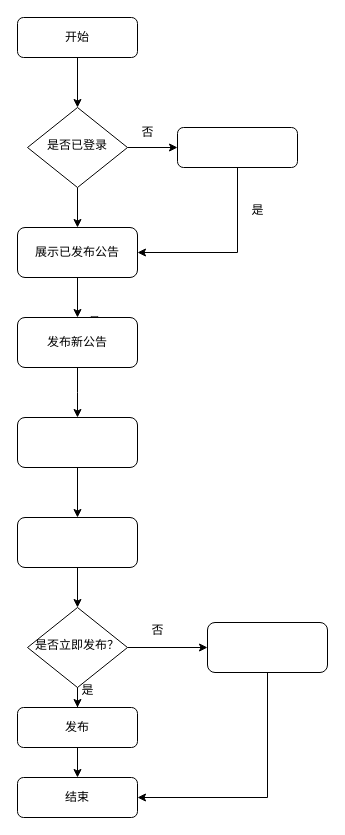
Image size: 345x835. Some labels were removed from this diagram. The centre of each missing label's shape, as x and y in pixels:
"定时发布" belongs at point 267,647.
"标注公告紧急程度" belongs at point 77,542.
"登录" belongs at point 237,147.
"输入公告内容" belongs at point 77,442.
